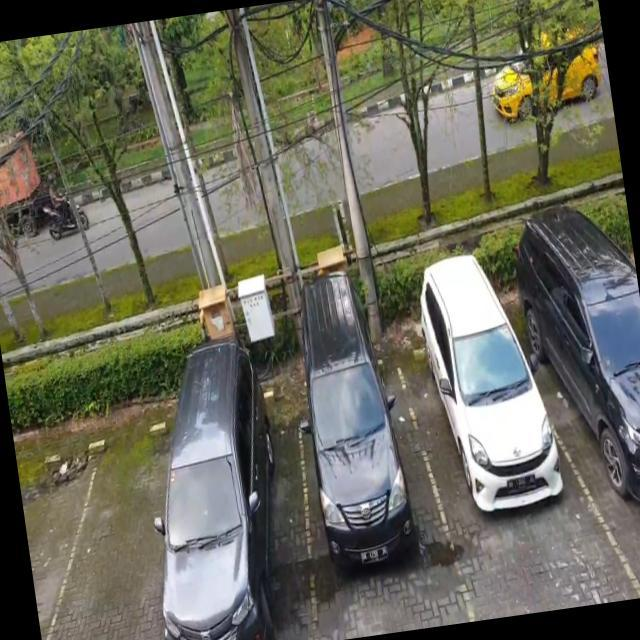empty: (36, 433, 169, 640)
occupied: (408, 292, 578, 580), (282, 344, 449, 630), (134, 396, 329, 640), (532, 238, 640, 567)
